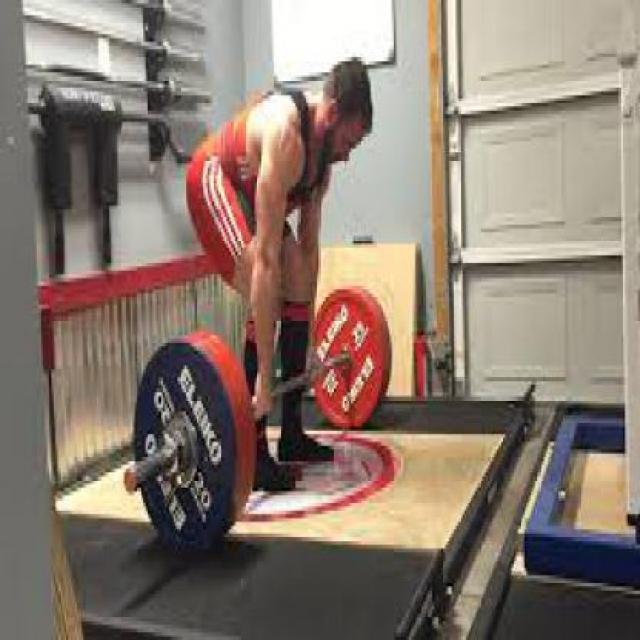Barbell: (122, 464, 140, 498)
